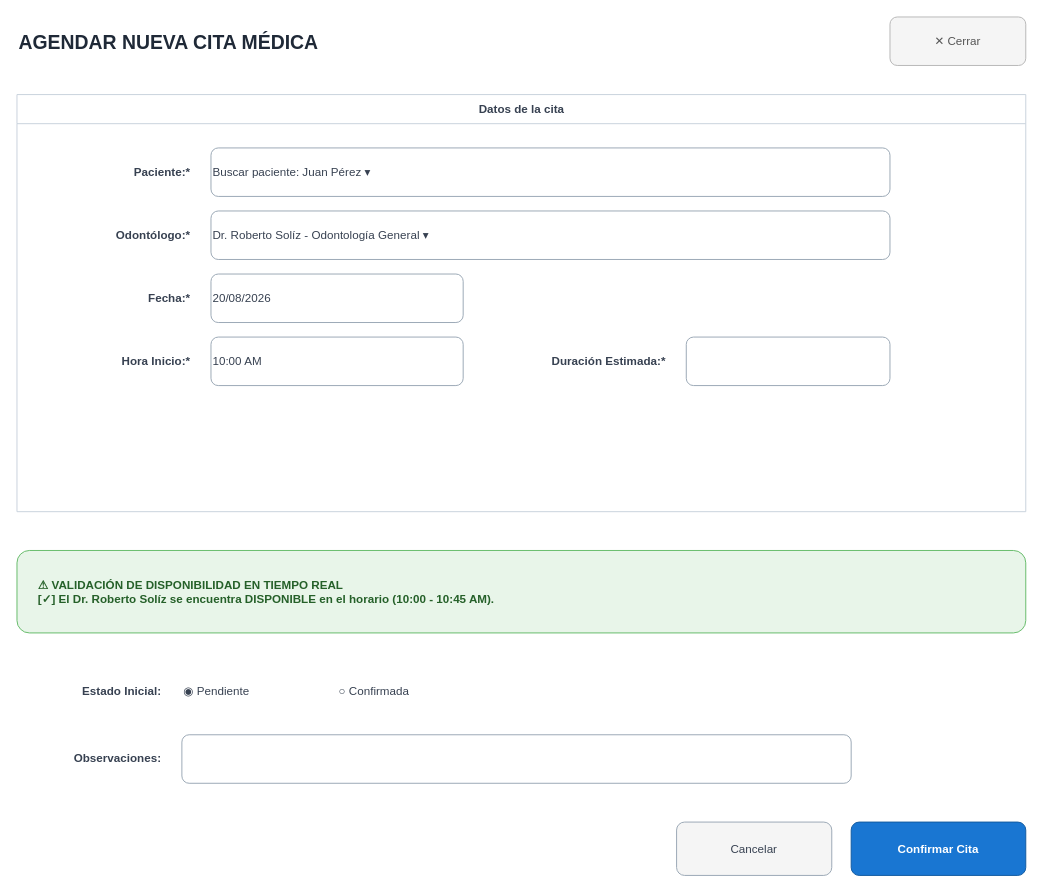
This 1043x892 diagram has some shape labels left out. Here are the shapes that lost their labels. From the top down, the centre of each, then its label:
(x=787, y=361): 45 minutos ▾
(x=516, y=758): Consulta inicial por dolor agudo en pieza 16
